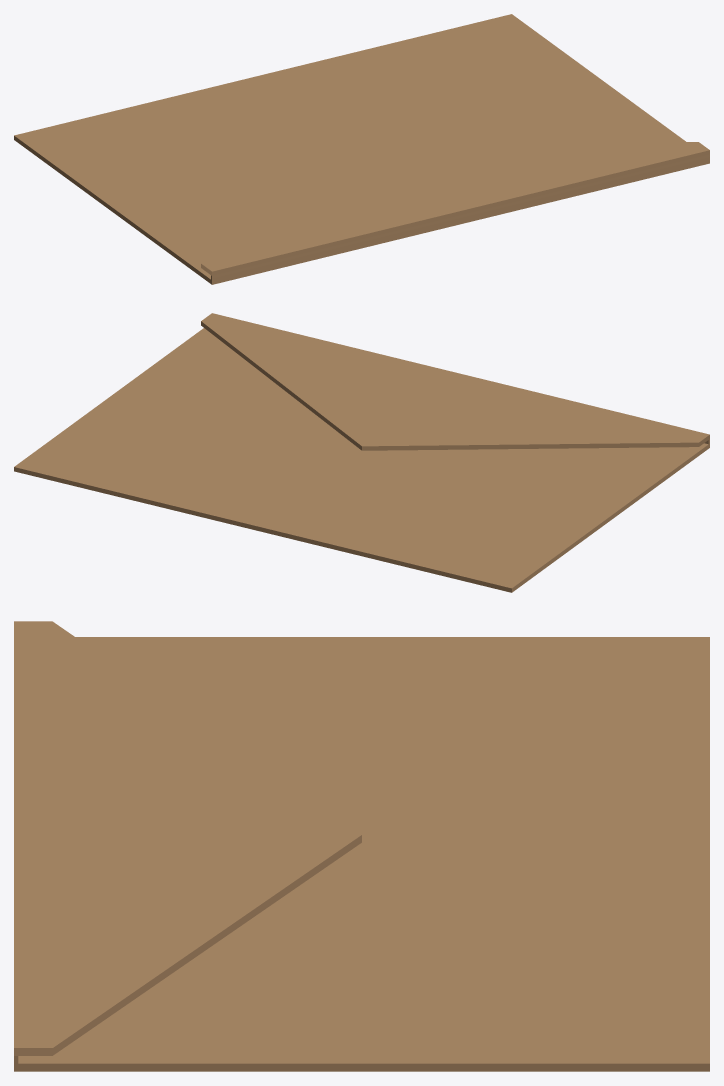
The model's file is brief.glb.
3 views of the same model, one above another, from view 1: azimuth 30°, elevation 25°; view 2: azimuth 150°, elevation 25°; view 3: azimuth 270°, elevation 25° (orthographic). The views are drawn at different scales.
Visible parts, largest first — view 1: Cube; view 2: Cube; view 3: Cube.
Boxes of the visible parts, x1,y1,x2,y2 form: Cube: [14, 14, 709, 284]; Cube: [14, 313, 709, 592]; Cube: [14, 621, 709, 1071].
Bounding box in the file's own units: 2.35 × 0.06 × 1.62.
